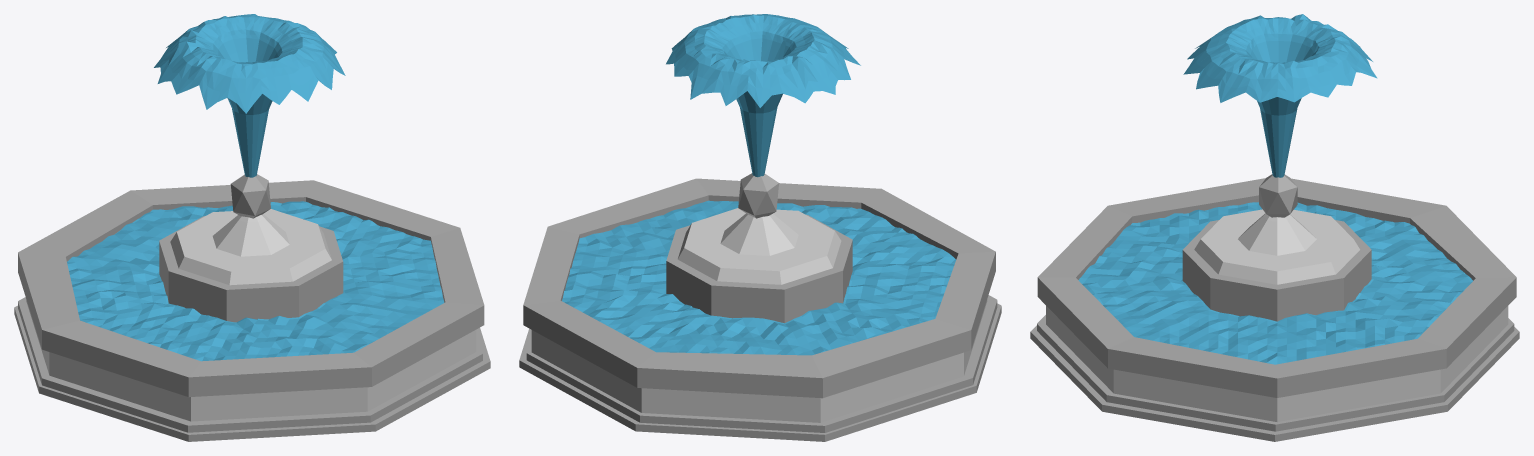
File: Fountain1.fbx
3 views of the same model, side by side, from view 1: azimuth 30°, elevation 25°; view 2: azimuth 150°, elevation 25°; view 3: azimuth 270°, elevation 25° (orthographic). The views are drawn at different scales.
Parts seen in each view (by area): view 1: Cylinder; view 2: Cylinder; view 3: Cylinder.
Boxes of the visible parts, x1,y1,x2,y2 form: Cylinder: (14, 14, 490, 441); Cylinder: (519, 14, 1001, 441); Cylinder: (1030, 14, 1519, 441).
Bounding box in the file's own units: 763 × 516 × 763.
